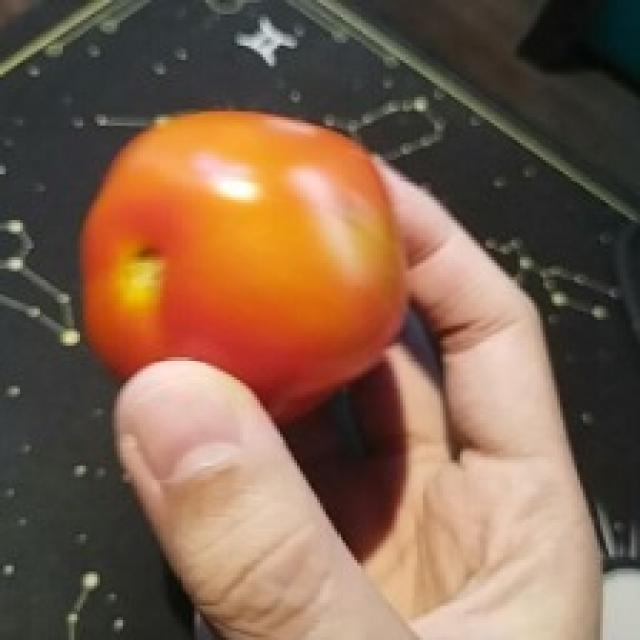Fresh Tomato: (59, 91, 422, 427)
